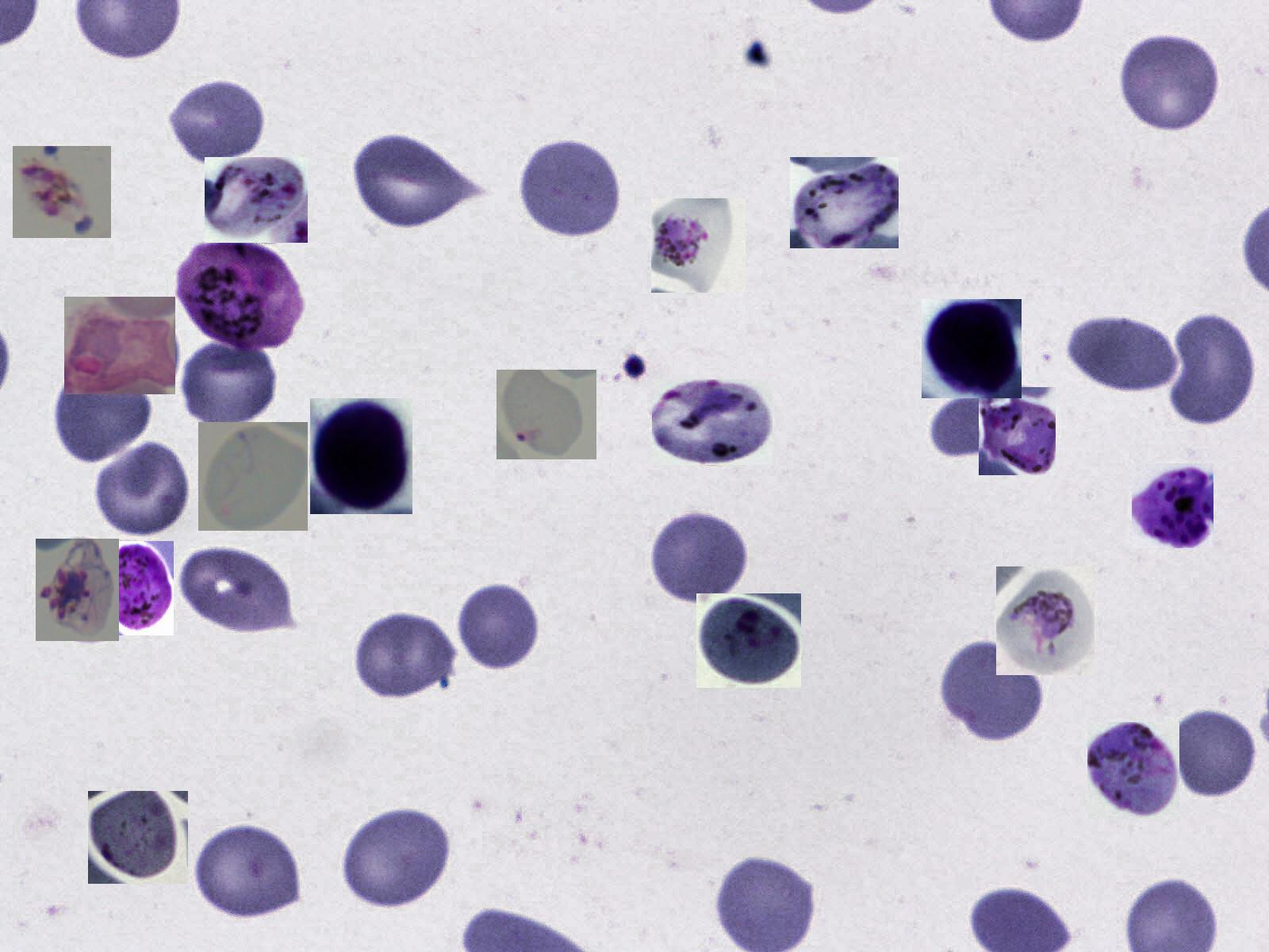Infected: (175, 236, 308, 349), (198, 422, 308, 531), (311, 398, 412, 514), (996, 566, 1095, 675), (64, 297, 175, 394), (652, 379, 773, 465), (696, 593, 801, 688), (790, 157, 899, 248), (922, 299, 1022, 398), (88, 791, 188, 884), (651, 198, 746, 293), (13, 146, 111, 238), (1087, 722, 1179, 819), (496, 370, 596, 459), (205, 157, 308, 243), (36, 539, 119, 642), (98, 541, 174, 635), (1132, 463, 1213, 548), (979, 387, 1056, 475)
Uninfected: (348, 129, 479, 228), (516, 132, 621, 240), (341, 805, 451, 907), (942, 637, 1046, 743), (197, 821, 307, 919), (1118, 31, 1221, 133), (1166, 309, 1255, 427), (51, 363, 155, 463), (180, 543, 298, 631), (650, 505, 750, 605), (94, 438, 194, 537), (1061, 312, 1182, 393), (167, 75, 269, 167), (354, 609, 453, 700), (176, 344, 278, 428), (1170, 705, 1258, 801), (458, 579, 541, 671), (926, 391, 1010, 457)
